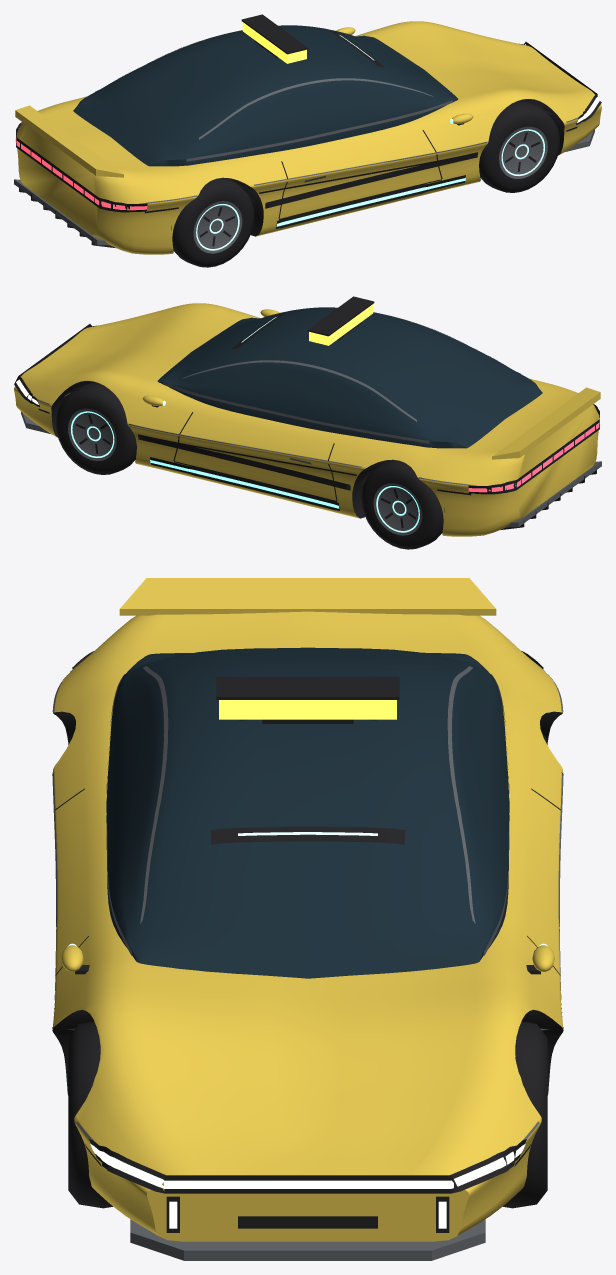
File: taxi162.glb
The picture shows the model from 3 angles, top to bottom: view 1: azimuth 30°, elevation 25°; view 2: azimuth 150°, elevation 25°; view 3: azimuth 270°, elevation 25°; orthographic projection. The views are drawn at different scales.
Parts seen in each view (by area): view 1: f162-body, f162-glass, f162-tire, f162-wheel-fr-tire, f162-wheel-rr-tire, f162-trim, f162-wheel-rr-trim, f162-wheel-fr-trim, f162-accent, f162-taxisign, f162-tail, f162-wheel-rr-accent (+1 smaller); view 2: f162-body, f162-glass, f162-tire, f162-wheel-fl-tire, f162-wheel-rl-tire, f162-trim, f162-wheel-rl-trim, f162-wheel-fl-trim, f162-accent, f162-taxisign, f162-tail, f162-wheel-rl-accent (+1 smaller); view 3: f162-body, f162-glass, f162-tire, f162-trim, f162-head, f162-wheel-fl-tire, f162-wheel-fr-tire, f162-taxisign.
Part boxes in pixels (x1=…): f162-body: x1=15, y1=21, x2=601, y2=254; f162-glass: x1=73, y1=25, x2=458, y2=166; f162-tire: x1=16, y1=14, x2=601, y2=247; f162-wheel-fr-tire: x1=479, y1=100, x2=559, y2=192; f162-wheel-rr-tire: x1=172, y1=177, x2=254, y2=267; f162-trim: x1=14, y1=25, x2=594, y2=245; f162-wheel-rr-trim: x1=193, y1=201, x2=242, y2=253; f162-wheel-fr-trim: x1=499, y1=126, x2=547, y2=178; f162-accent: x1=276, y1=35, x2=465, y2=226; f162-taxisign: x1=242, y1=22, x2=306, y2=63; f162-tail: x1=15, y1=138, x2=147, y2=210; f162-wheel-rr-accent: x1=196, y1=204, x2=239, y2=250; f162-body: x1=14, y1=303, x2=600, y2=536; f162-glass: x1=157, y1=307, x2=542, y2=448; f162-tire: x1=14, y1=296, x2=599, y2=529; f162-wheel-fl-tire: x1=56, y1=382, x2=136, y2=474; f162-wheel-rl-tire: x1=361, y1=459, x2=443, y2=549; f162-trim: x1=21, y1=307, x2=601, y2=527; f162-wheel-rl-trim: x1=373, y1=483, x2=422, y2=535; f162-wheel-fl-trim: x1=68, y1=408, x2=116, y2=460; f162-accent: x1=150, y1=317, x2=339, y2=508; f162-taxisign: x1=309, y1=304, x2=373, y2=345; f162-tail: x1=468, y1=415, x2=599, y2=492; f162-wheel-rl-accent: x1=376, y1=486, x2=419, y2=532; f162-body: x1=52, y1=578, x2=563, y2=1241; f162-glass: x1=106, y1=647, x2=509, y2=978; f162-tire: x1=55, y1=651, x2=560, y2=1232; f162-trim: x1=52, y1=666, x2=563, y2=1260; f162-head: x1=90, y1=1144, x2=525, y2=1228; f162-wheel-fl-tire: x1=503, y1=1021, x2=547, y2=1208; f162-wheel-fr-tire: x1=68, y1=1021, x2=112, y2=1208; f162-taxisign: x1=219, y1=700, x2=396, y2=719.
Size of the model in its own units: 4.36 by 1.35 by 1.9.
